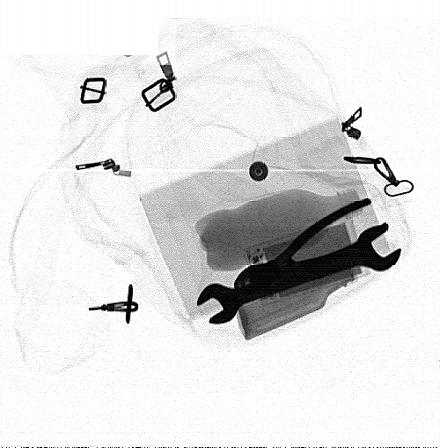Pliers: (234, 197, 377, 294)
Powerbank: (240, 217, 368, 308)
Wrench: (198, 225, 401, 324)
